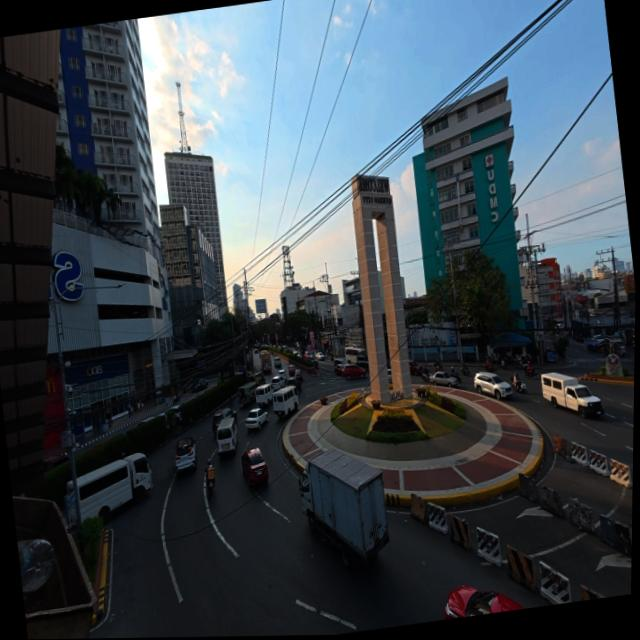car: (472, 369, 516, 403), (240, 446, 270, 490), (166, 434, 197, 473), (428, 368, 458, 390), (242, 408, 269, 432), (341, 361, 367, 381)
trucks: (297, 440, 397, 578)
vans: (536, 361, 605, 426)
